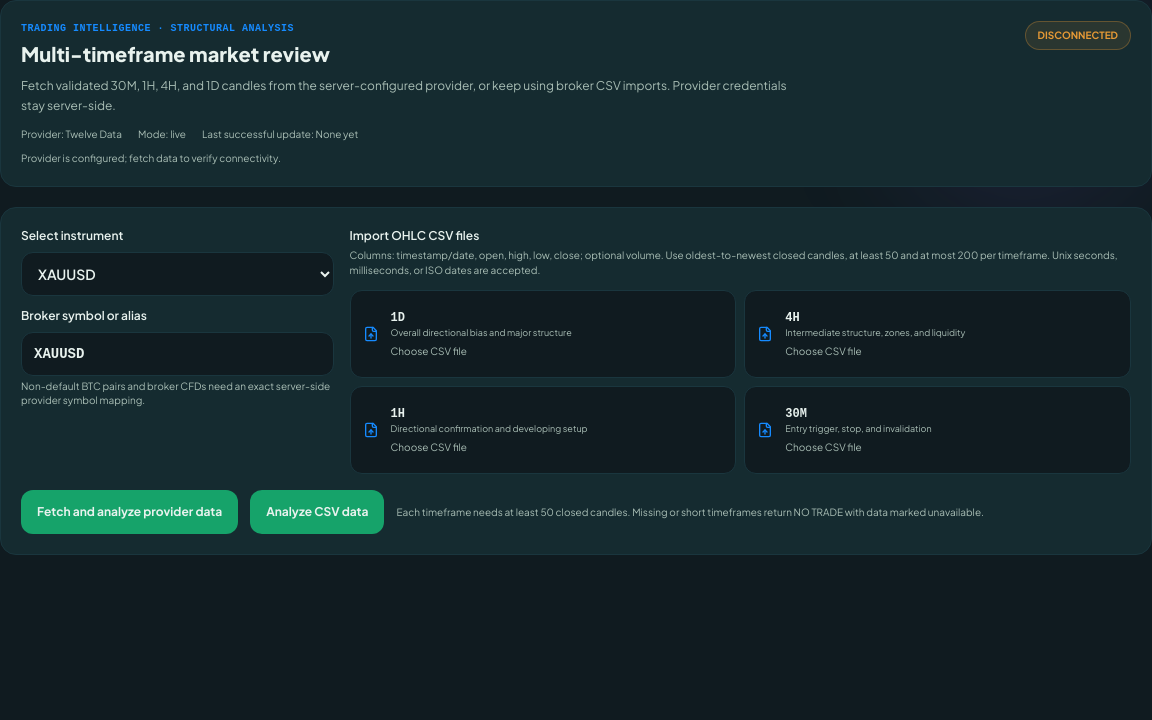
Test: TradingPage › keeps the newest provider request when an older response finishes last
Click the button with test id "button-analyze-provider" at [130, 512], box [21,490,238,534]
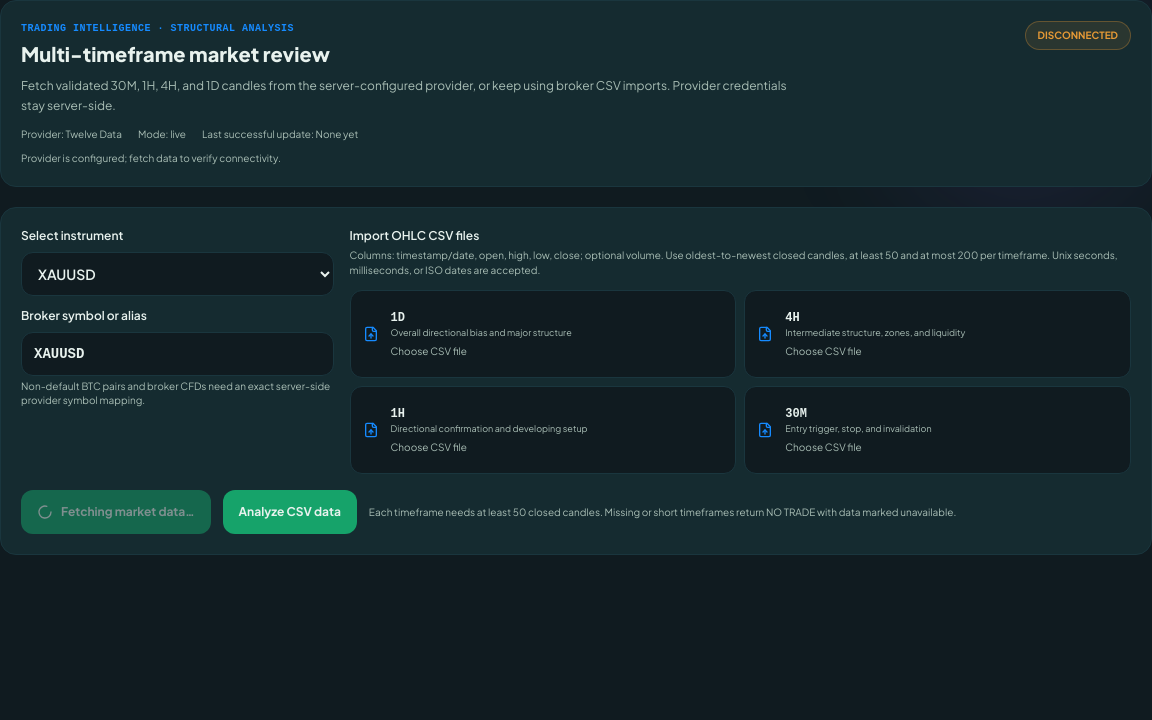
Select "BTCUSD" in the dropdown with test id "select-market-instrument" at [177, 274], box [21,252,334,296]
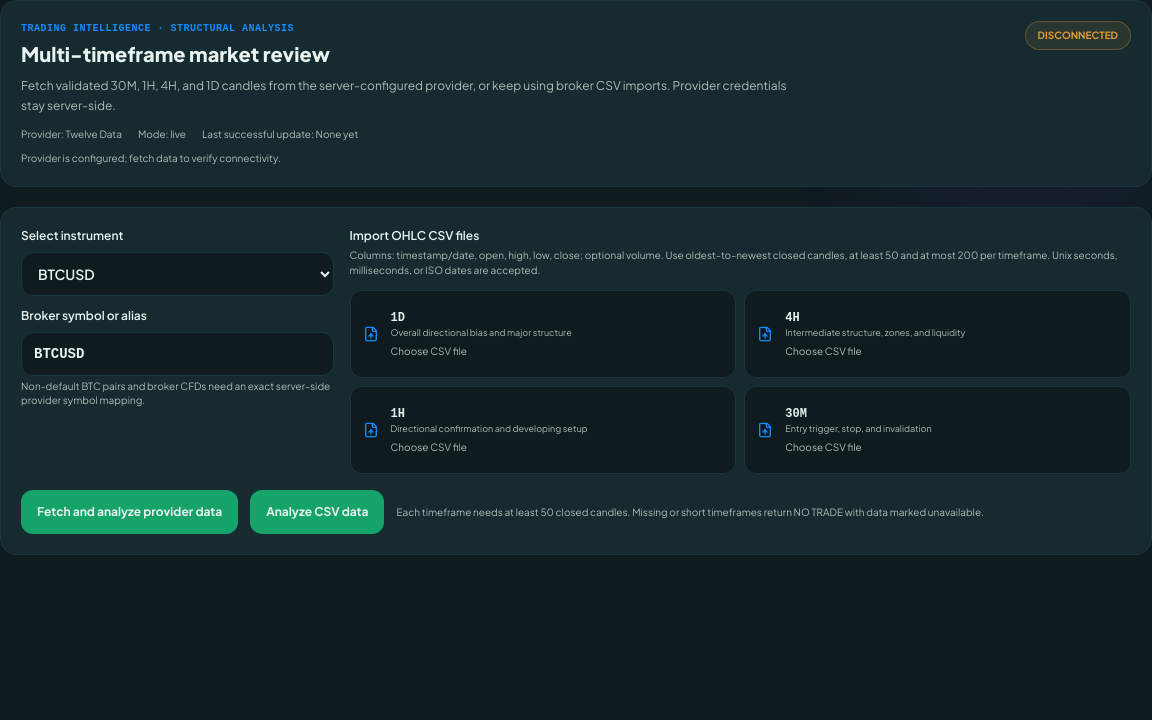
Click the button with test id "button-analyze-provider" at [130, 512], box [21,490,238,534]
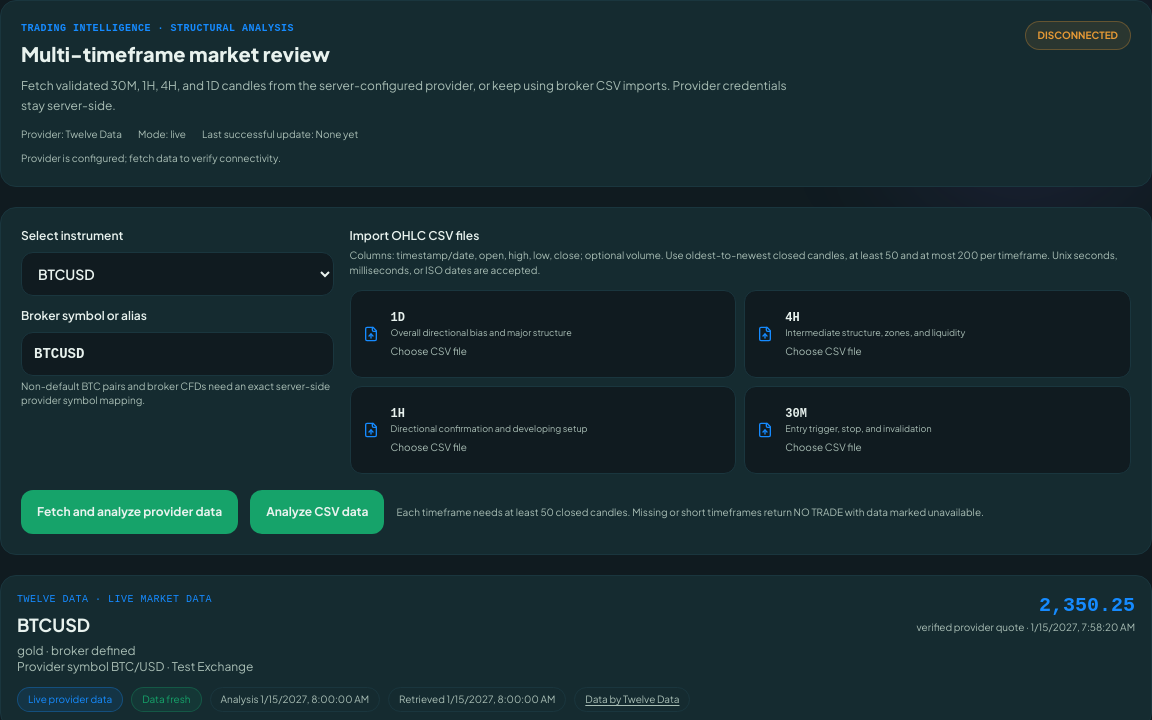
Expected: the heading "XAUUSD" is not shown
Expected: the heading "BTCUSD" is shown, [17,613,90,636]
